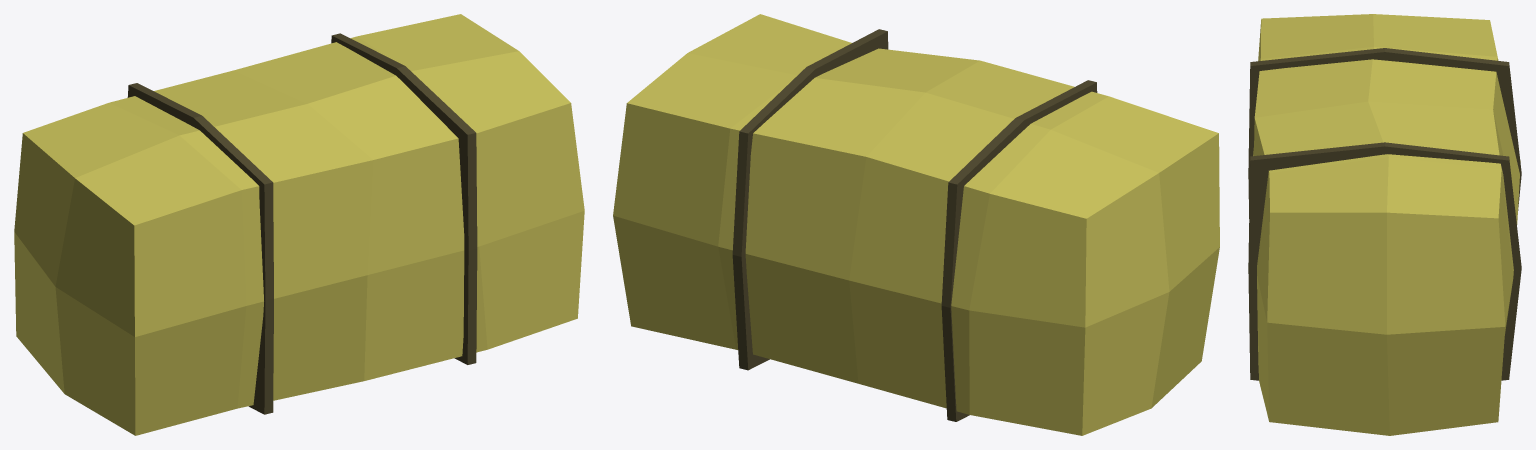
The model's file is hay.fbx.
3 renders of one model, left to right at view 1: azimuth 30°, elevation 25°; view 2: azimuth 150°, elevation 25°; view 3: azimuth 270°, elevation 25°, orthographic. The views are drawn at different scales.
Parts seen in each view (by area): view 1: Circle; view 2: Circle; view 3: Circle.
Part boxes in pixels (bbox=[...]): Circle: bbox=[14, 14, 584, 435]; Circle: bbox=[613, 14, 1219, 435]; Circle: bbox=[1248, 14, 1521, 435].
Bounding box in the file's own units: 209 × 107 × 107.
